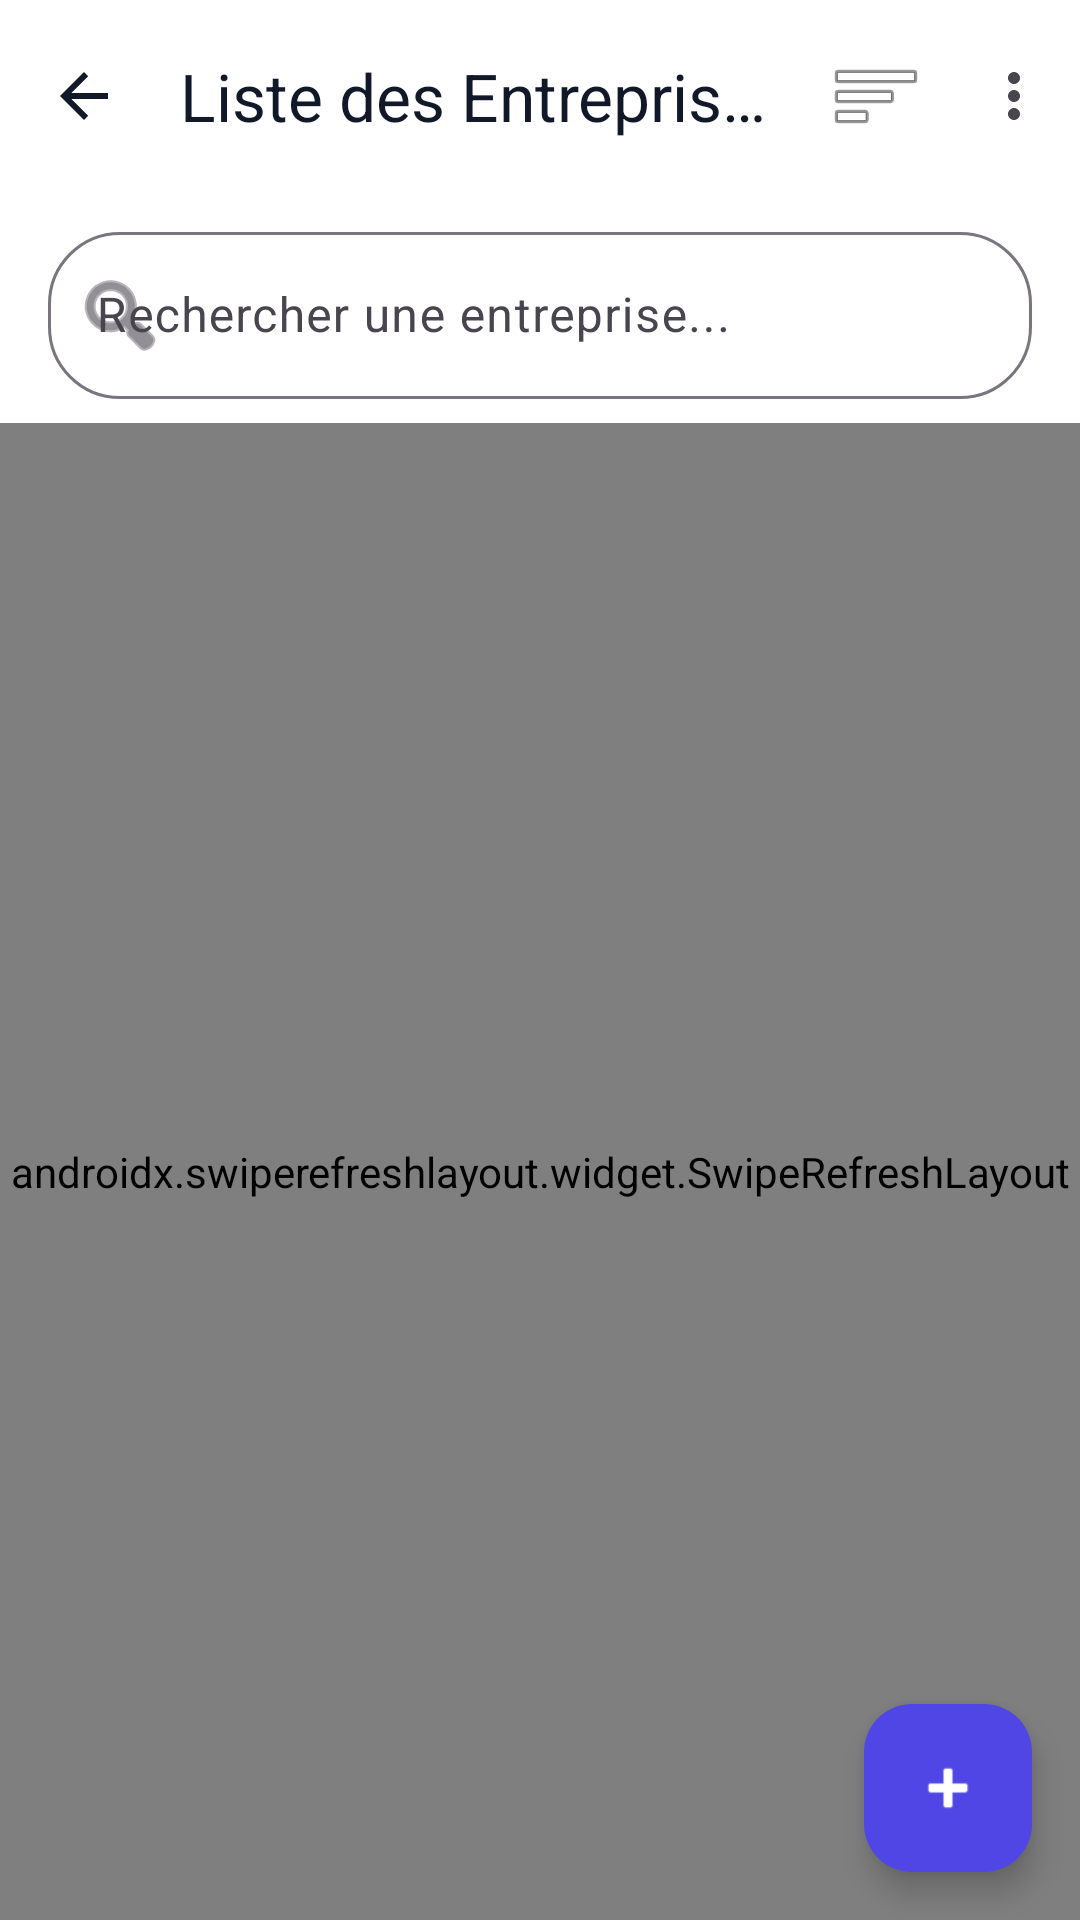

Screen size 1080 x 1920. Icon name, then its center in pixels as [x,y]:
Ajouter une entreprise: [948,1788]
